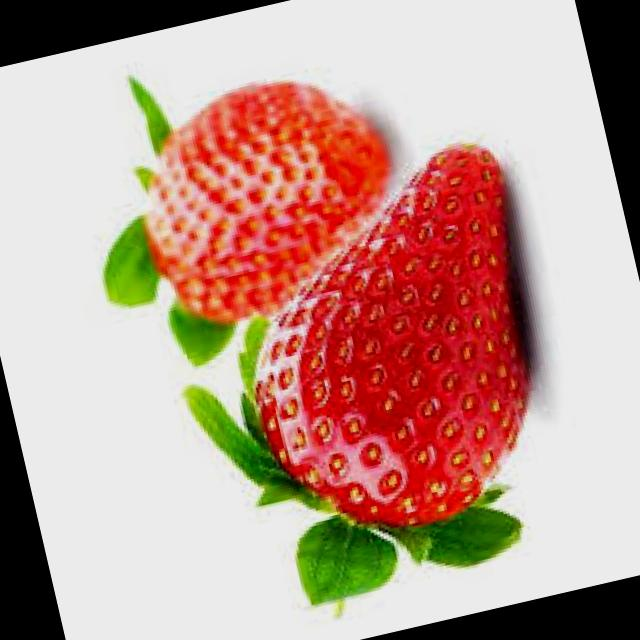strawberry: (152, 126, 597, 640), (63, 31, 422, 350)
